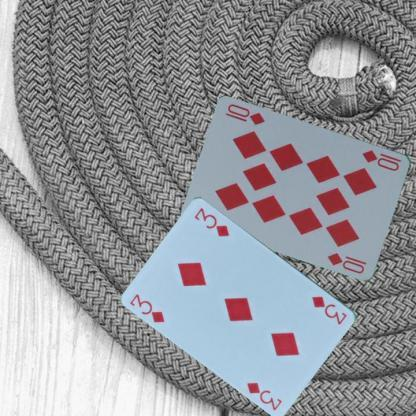10d: (360, 147, 403, 173)
3d: (309, 293, 349, 326), (128, 291, 166, 325)
